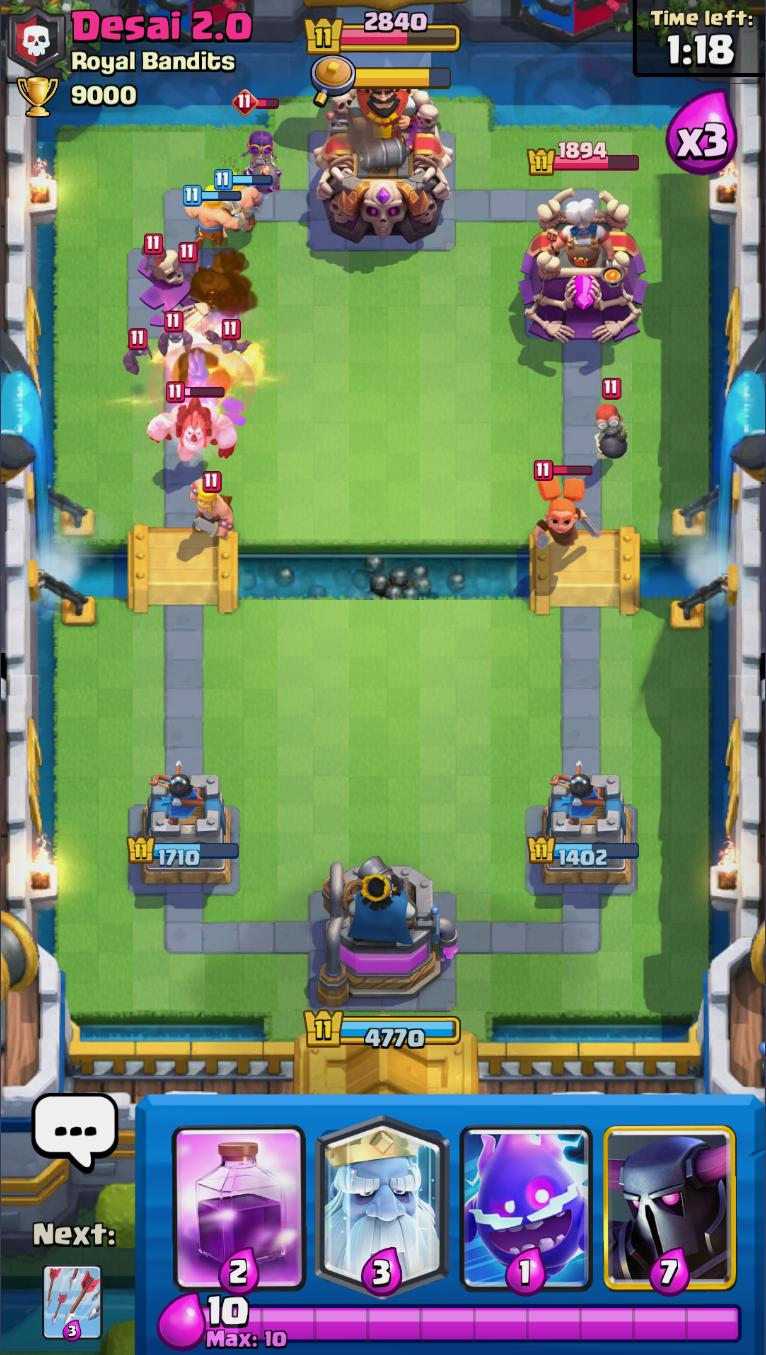ArrowNext: (41, 1264, 103, 1315)
Barbarian: (187, 470, 237, 540)
Bat: (202, 317, 258, 356), (155, 311, 196, 357), (122, 326, 154, 377), (138, 232, 169, 275), (173, 242, 203, 283)
Berserker: (529, 460, 601, 554)
Bomber: (591, 378, 631, 464)
Chef: (553, 198, 616, 277)
ElectroSpiritDeck: (455, 1096, 598, 1295)
Elixir: (204, 1293, 747, 1350)
EnemyTower: (517, 186, 649, 348)
EnemyTowerBrocken: (122, 240, 243, 340)
EvoBomber: (233, 89, 286, 199)
IceGolem: (147, 385, 240, 465)
KingTower: (312, 82, 455, 245)
KingTowerHP: (303, 9, 463, 56)
MyBarbarian: (212, 168, 275, 233), (182, 184, 244, 250)
MyKingHP: (300, 1006, 462, 1051)
MyKingTower: (316, 851, 462, 1009)
MyPrincessTower: (125, 770, 242, 892), (528, 775, 639, 894)
MyPrincessTowerHP: (528, 833, 642, 869), (128, 834, 244, 868)
PekkaDeck: (601, 1096, 741, 1296)
RageDeck: (166, 1095, 313, 1287)
RoyaleGhostDeck: (308, 1098, 451, 1296)
TowerPrincessHP: (527, 140, 643, 179)
